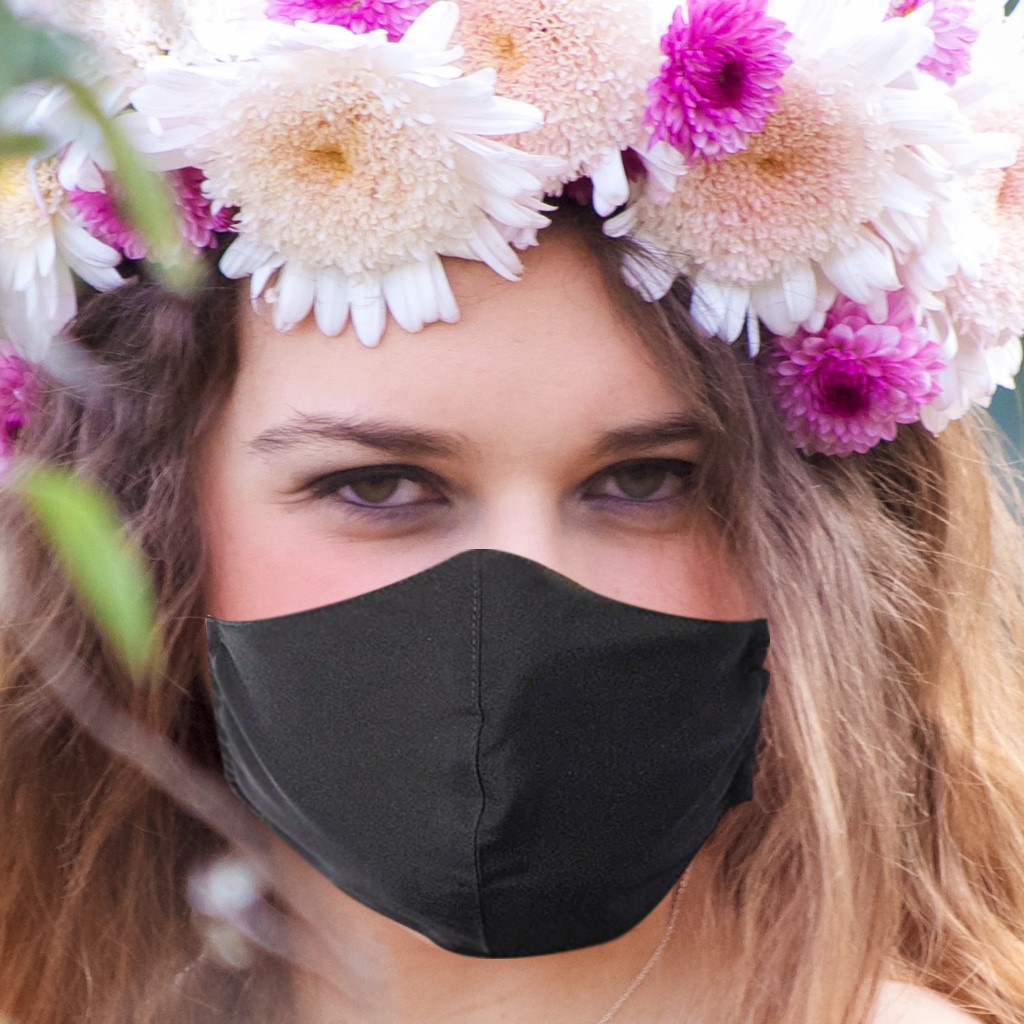con_mascara: (174, 236, 809, 970)
